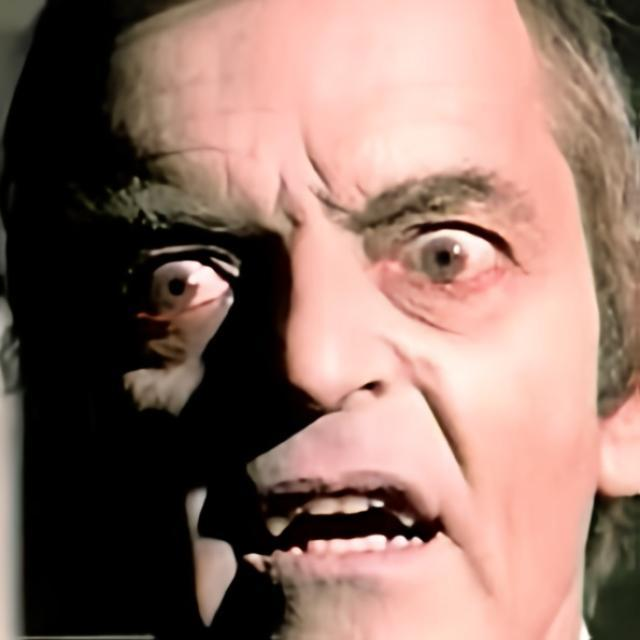fear: (66, 0, 604, 640)
